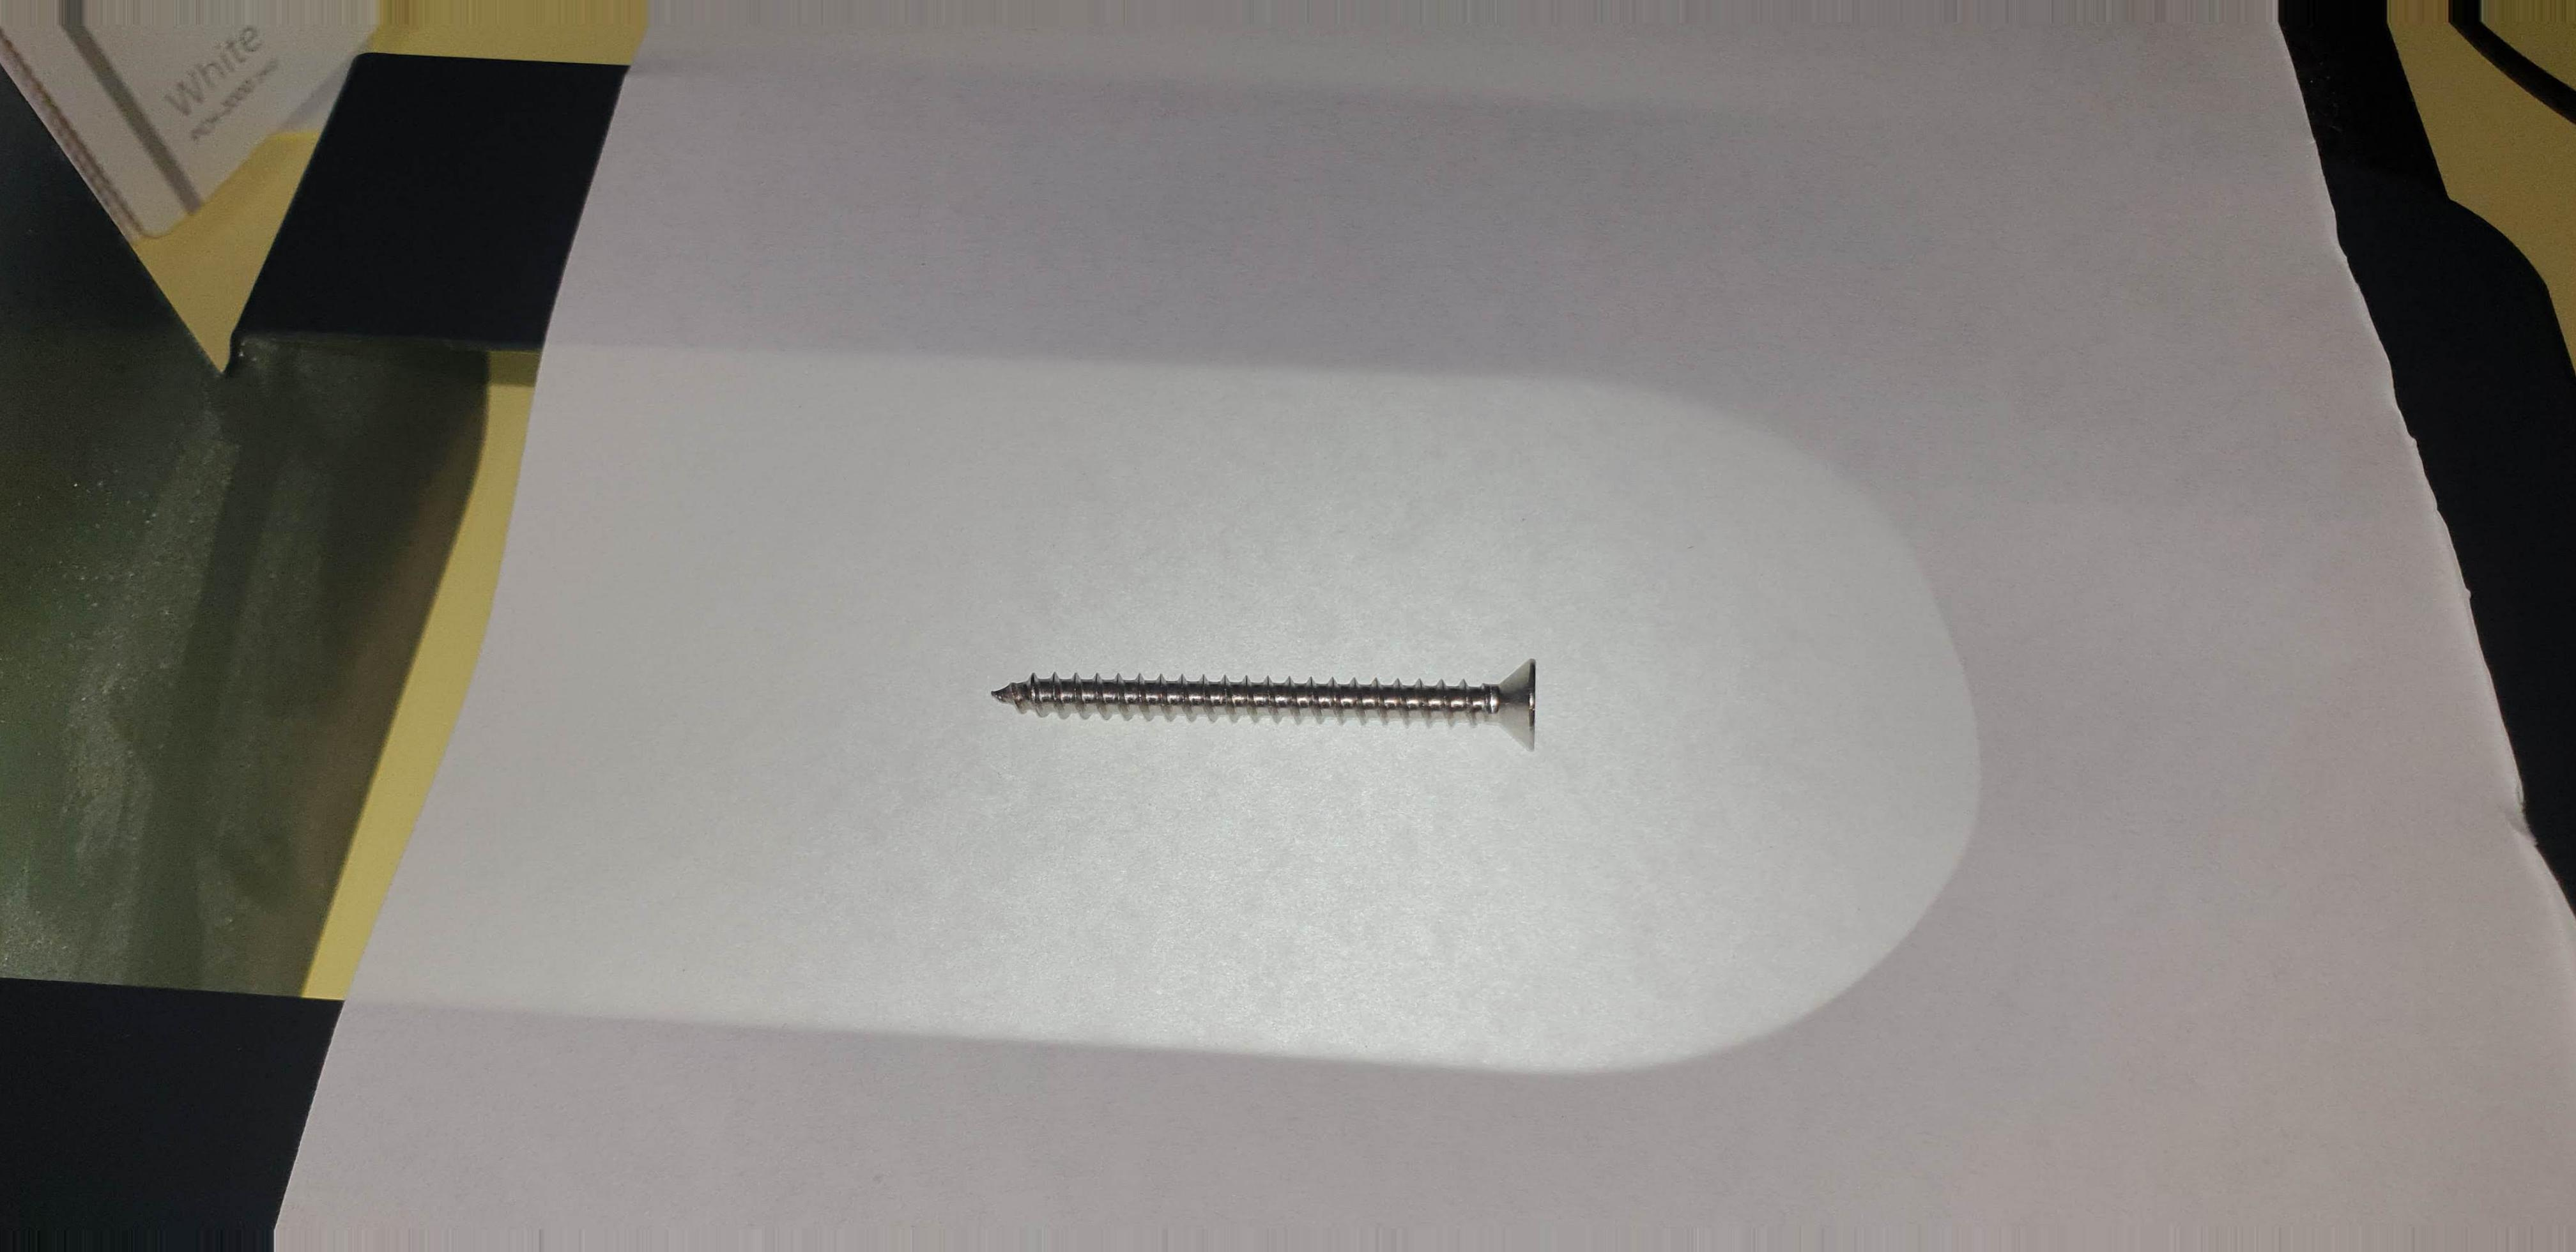fastener: (951, 610, 1626, 776)
